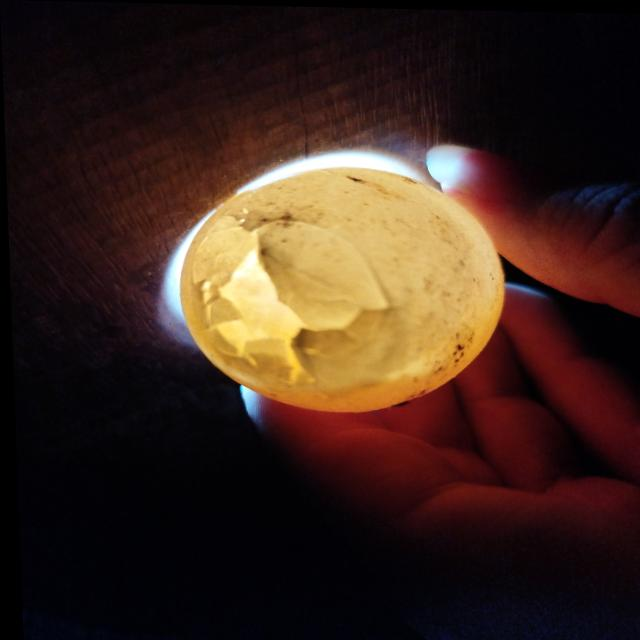Rachadura: (185, 212, 395, 385)
